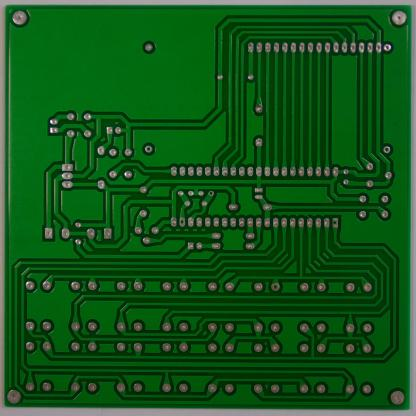missing_hole: (270, 281, 281, 293), (381, 146, 392, 156), (330, 218, 340, 228), (177, 218, 187, 226), (144, 144, 152, 153), (207, 189, 215, 198)
